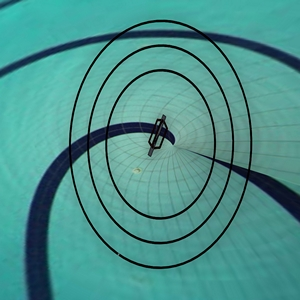circle: (56, 14, 261, 284)
submarine: (125, 107, 185, 163)
